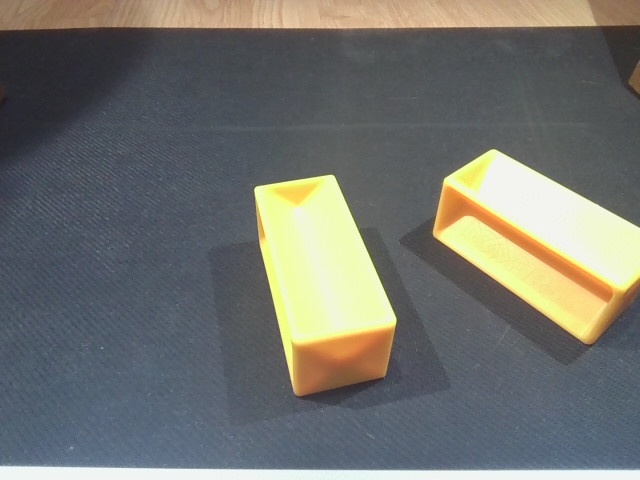YellowSample: (430, 145, 640, 350), (241, 171, 397, 398)
